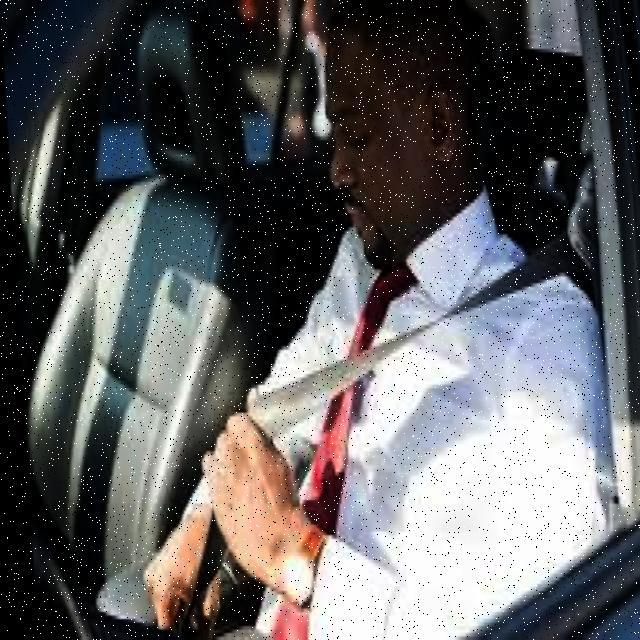seatbelt: (163, 189, 612, 578)
